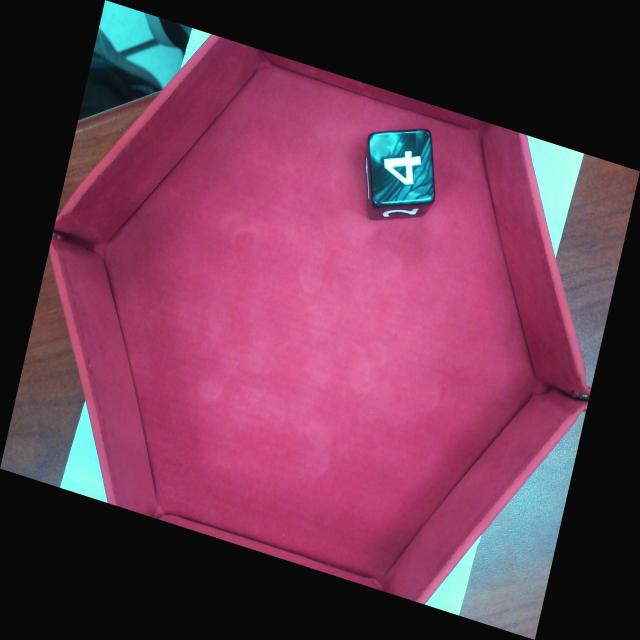dice: (373, 131, 435, 201)
